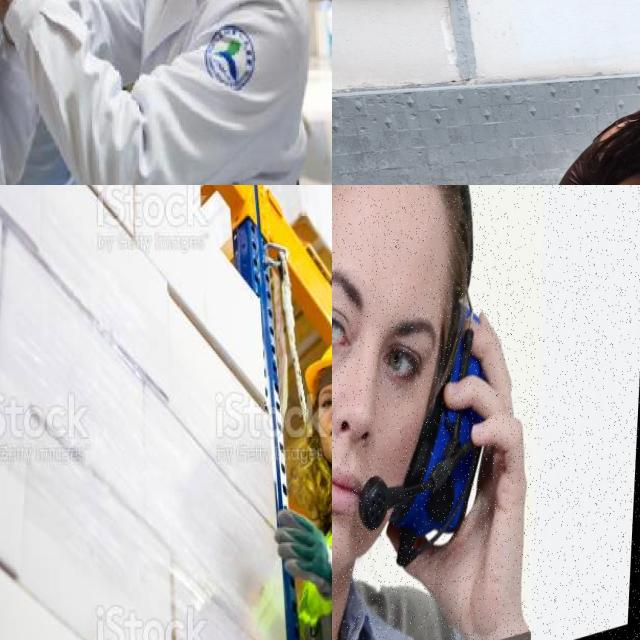No_Glasses: (332, 264, 442, 408)
face_nomask: (332, 364, 429, 580)
hand_noglove: (409, 316, 528, 640)
head_nohelmet: (435, 185, 473, 301)
person: (36, 0, 328, 185)
